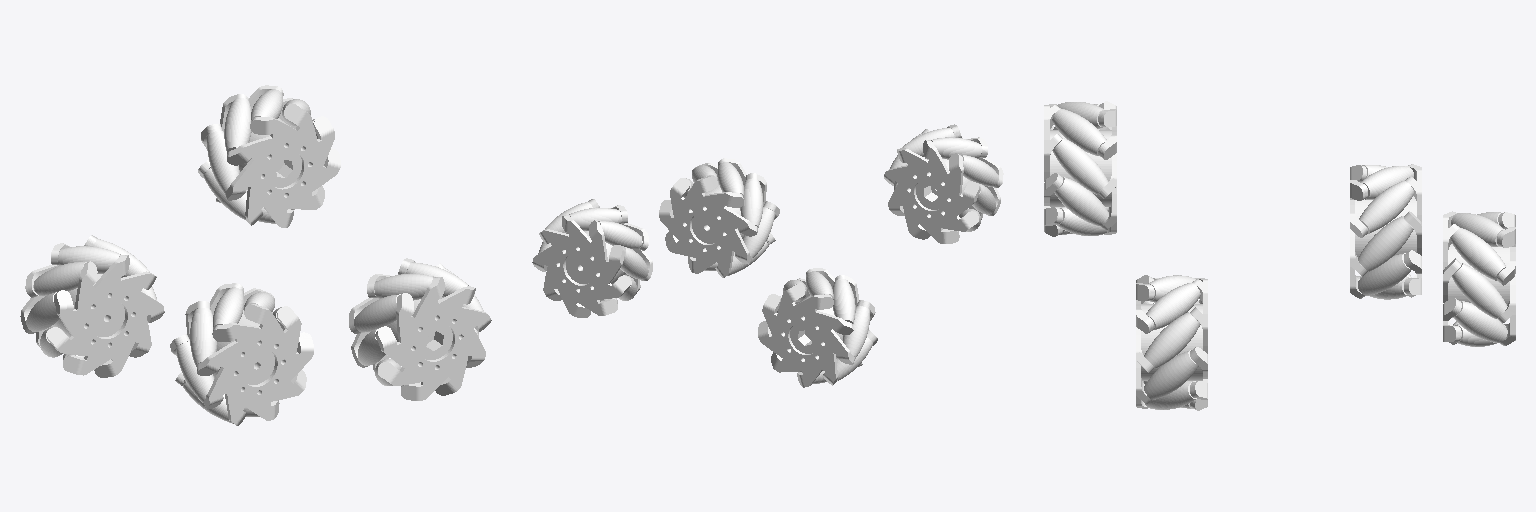
robot.urdf — base_link:
<?xml version="1.0"?>
<robot name="base_link">

  <!-- Materials -->
  <material name="PA_11_Nylon_HP_11_30_with_EOS_P_396_3D_Printer">
    <color rgba="0.247 0.247 0.247 1.0"/>
  </material>
  <material name="Steel">
    <color rgba="1.000 1.000 1.000 1.0"/>
  </material>
  <material name="Acetal_Resin_Black">
    <color rgba="0.098 0.098 0.098 1.0"/>
  </material>

  <link name="base_link">
    <inertial>
      <origin xyz="0.041588 -0.062494 0.024412" rpy="0 0 0"/>
      <mass value="2.898778"/>
      <inertia ixx="7.972007e-03" ixy="9.038509e-07" ixz="2.755930e-04"
               iyy="1.378869e-02" iyz="-4.482345e-07" izz="2.052341e-02"/>
    </inertial>
    <visual>
      <origin xyz="0.000000 0.000000 0.000000" rpy="0.000000 0.000000 0.000000"/>
      <geometry>
        <mesh filename="package://base_link_description/meshes/base_link/base_link.dae" scale="1 1 1"/>
      </geometry>
      <material name="Acetal_Resin_Black"/>
    </visual>
    <collision>
      <origin xyz="0.000000 0.000000 0.000000" rpy="0.000000 0.000000 0.000000"/>
      <geometry>
        <mesh filename="package://base_link_description/meshes/base_link/base_link_collision.stl" scale="0.01 0.01 0.01"/>
      </geometry>
    </collision>
  </link>

  <link name="zed2_camera_link">
    <inertial>
      <origin xyz="0.000000 0.015505 0.042389" rpy="0 0 0"/>
      <mass value="0.178229"/>
      <inertia ixx="2.662726e-05" ixy="-3.215230e-09" ixz="-1.621734e-09"
               iyy="4.362977e-04" iyz="-2.967393e-09" izz="4.390806e-04"/>
    </inertial>
    <visual>
      <origin xyz="0.000000 0.000000 0.000000" rpy="0.000000 0.000000 0.000000"/>
      <geometry>
        <mesh filename="package://base_link_description/meshes/base_link/zed2_camera_link.dae" scale="1 1 1"/>
      </geometry>
      <material name="PA_11_Nylon_HP_11_30_with_EOS_P_396_3D_Printer"/>
    </visual>
    <collision>
      <origin xyz="0.000000 0.000000 0.000000" rpy="0.000000 0.000000 0.000000"/>
      <geometry>
        <mesh filename="package://base_link_description/meshes/base_link/zed2_camera_link_collision.stl" scale="0.01 0.01 0.01"/>
      </geometry>
    </collision>
  </link>

  <link name="rplidar_s2_link">
    <inertial>
      <origin xyz="-0.595013 0.532942 0.012880" rpy="0 0 0"/>
      <mass value="0.203764"/>
      <inertia ixx="1.351079e-04" ixy="-7.653496e-09" ixz="1.410544e-08"
               iyy="1.362177e-04" iyz="3.930765e-08" izz="2.370283e-04"/>
    </inertial>
    <visual>
      <origin xyz="0.000000 0.000000 0.000000" rpy="0.000000 0.000000 0.000000"/>
      <geometry>
        <mesh filename="package://base_link_description/meshes/base_link/rplidar_s2_link.dae" scale="1 1 1"/>
      </geometry>
      <material name="Steel"/>
    </visual>
    <collision>
      <origin xyz="0.000000 0.000000 0.000000" rpy="0.000000 0.000000 0.000000"/>
      <geometry>
        <mesh filename="package://base_link_description/meshes/base_link/rplidar_s2_link_collision.stl" scale="0.01 0.01 0.01"/>
      </geometry>
    </collision>
  </link>

  <link name="Part2_1">
    <inertial>
      <origin xyz="-0.129964 -0.020034 0.052271" rpy="0 0 0"/>
      <mass value="0.967990"/>
      <inertia ixx="4.354820e-04" ixy="-1.765367e-07" ixz="9.904484e-07"
               iyy="4.318266e-04" iyz="1.096024e-06" izz="6.297403e-04"/>
    </inertial>
    <visual>
      <origin xyz="-0.130000 -0.020000 0.070000" rpy="-1.570796 0.000000 0.000000"/>
      <geometry>
        <mesh filename="package://base_link_description/meshes/front_left_wheel_link/Part2_1.dae" scale="1 1 1"/>
      </geometry>
      <material name="Steel"/>
    </visual>
    <collision>
      <origin xyz="-0.130000 -0.020000 0.070000" rpy="-1.570796 0.000000 0.000000"/>
      <geometry>
        <mesh filename="package://base_link_description/meshes/front_left_wheel_link/Part2_1_collision.stl" scale="0.01 0.01 0.01"/>
      </geometry>
    </collision>
  </link>

  <link name="Part2_2">
    <inertial>
      <origin xyz="0.020036 -0.020034 -0.185729" rpy="0 0 0"/>
      <mass value="0.967990"/>
      <inertia ixx="4.354820e-04" ixy="-1.765367e-07" ixz="9.904484e-07"
               iyy="4.318266e-04" iyz="1.096024e-06" izz="6.297403e-04"/>
    </inertial>
    <visual>
      <origin xyz="0.020000 -0.020000 -0.168000" rpy="-1.570796 0.000000 0.000000"/>
      <geometry>
        <mesh filename="package://base_link_description/meshes/rear_right_wheel_link/Part2_2.dae" scale="1 1 1"/>
      </geometry>
      <material name="Steel"/>
    </visual>
    <collision>
      <origin xyz="0.020000 -0.020000 -0.168000" rpy="-1.570796 0.000000 0.000000"/>
      <geometry>
        <mesh filename="package://base_link_description/meshes/rear_right_wheel_link/Part2_2_collision.stl" scale="0.01 0.01 0.01"/>
      </geometry>
    </collision>
  </link>

  <link name="Part2_1_Mirror">
    <inertial>
      <origin xyz="-0.129964 -0.019966 -0.185729" rpy="0 0 0"/>
      <mass value="0.967990"/>
      <inertia ixx="4.354820e-04" ixy="1.765368e-07" ixz="9.904484e-07"
               iyy="4.318266e-04" iyz="-1.096024e-06" izz="6.297403e-04"/>
    </inertial>
    <visual>
      <origin xyz="-0.130000 -0.020000 -0.168000" rpy="-1.570796 0.000000 0.000000"/>
      <geometry>
        <mesh filename="package://base_link_description/meshes/front_right_wheel_link/Part2_1_Mirror.dae" scale="1 1 1"/>
      </geometry>
      <material name="Steel"/>
    </visual>
    <collision>
      <origin xyz="-0.130000 -0.020000 -0.168000" rpy="-1.570796 0.000000 0.000000"/>
      <geometry>
        <mesh filename="package://base_link_description/meshes/front_right_wheel_link/Part2_1_Mirror_collision.stl" scale="0.01 0.01 0.01"/>
      </geometry>
    </collision>
  </link>

  <link name="Part2_2_Mirror">
    <inertial>
      <origin xyz="0.020036 -0.019966 0.025271" rpy="0 0 0"/>
      <mass value="0.967990"/>
      <inertia ixx="4.354820e-04" ixy="1.765368e-07" ixz="9.904484e-07"
               iyy="4.318266e-04" iyz="-1.096024e-06" izz="6.297403e-04"/>
    </inertial>
    <visual>
      <origin xyz="0.020000 -0.020000 0.043000" rpy="-1.570796 0.000000 0.000000"/>
      <geometry>
        <mesh filename="package://base_link_description/meshes/rear_left_wheel_link/Part2_2_Mirror.dae" scale="1 1 1"/>
      </geometry>
      <material name="Steel"/>
    </visual>
    <collision>
      <origin xyz="0.020000 -0.020000 0.043000" rpy="-1.570796 0.000000 0.000000"/>
      <geometry>
        <mesh filename="package://base_link_description/meshes/rear_left_wheel_link/Part2_2_Mirror_collision.stl" scale="0.01 0.01 0.01"/>
      </geometry>
    </collision>
  </link>

  <joint name="Rigid_1" type="fixed">
    <parent link="base_link"/>
    <child link="zed2_camera_link"/>
    <origin xyz="0.145000 -0.062500 -0.007371" rpy="0.000000 0.000000 -1.570796"/>
  </joint>

  <joint name="Rigid_2" type="fixed">
    <parent link="base_link"/>
    <child link="rplidar_s2_link"/>
    <origin xyz="-0.433747 -0.657506 0.046815" rpy="0.000000 0.000000 -1.570796"/>
  </joint>

  <joint name="Revolute_5" type="continuous">
    <parent link="base_link"/>
    <child link="Part2_1"/>
    <origin xyz="0.260000 0.000000 0.000000" rpy="-1.570796 0.000000 0.000000"/>
    <axis xyz="0.000000 0.000000 1.000000"/>
    <limit effort="100.0" velocity="1.00"/>
  </joint>

  <joint name="Revolute_6" type="continuous">
    <parent link="base_link"/>
    <child link="Part2_2"/>
    <origin xyz="-0.040000 -0.362000 0.040000" rpy="1.570796 0.000000 0.000000"/>
    <axis xyz="0.000000 0.000000 1.000000"/>
    <limit effort="100.0" velocity="1.00"/>
  </joint>

  <joint name="Revolute_8" type="continuous">
    <parent link="base_link"/>
    <child link="Part2_1_Mirror"/>
    <origin xyz="0.260000 -0.362000 0.040000" rpy="1.570796 0.000000 0.000000"/>
    <axis xyz="0.000000 0.000000 1.000000"/>
    <limit effort="100.0" velocity="1.00"/>
  </joint>

  <joint name="Revolute_9" type="continuous">
    <parent link="base_link"/>
    <child link="Part2_2_Mirror"/>
    <origin xyz="-0.040000 0.026000 0.000000" rpy="-1.570796 0.000000 0.000000"/>
    <axis xyz="0.000000 0.000000 1.000000"/>
    <limit effort="100.0" velocity="1.00"/>
  </joint>

  <!-- ROS 2 control: generated generic system -->
  <ros2_control name="base_link_system" type="system">
    <hardware>
      <plugin>mock_components/GenericSystem</plugin>
      <param name="cmd_topic">sim/base_link_system/cmd</param>
      <param name="state_topic">sim/base_link_system/state</param>
    </hardware>

    <joint name="Revolute_5">
      <command_interface name="position"/>
      <command_interface name="velocity"/>
      <state_interface name="position">
        <param name="initial_value">0.0</param>
      </state_interface>
      <state_interface name="velocity"/>
      <state_interface name="effort"/>
    </joint>
    <joint name="Revolute_6">
      <command_interface name="position"/>
      <command_interface name="velocity"/>
      <state_interface name="position">
        <param name="initial_value">0.0</param>
      </state_interface>
      <state_interface name="velocity"/>
      <state_interface name="effort"/>
    </joint>
    <joint name="Revolute_8">
      <command_interface name="position"/>
      <command_interface name="velocity"/>
      <state_interface name="position">
        <param name="initial_value">0.0</param>
      </state_interface>
      <state_interface name="velocity"/>
      <state_interface name="effort"/>
    </joint>
    <joint name="Revolute_9">
      <command_interface name="position"/>
      <command_interface name="velocity"/>
      <state_interface name="position">
        <param name="initial_value">0.0</param>
      </state_interface>
      <state_interface name="velocity"/>
      <state_interface name="effort"/>
    </joint>
  </ros2_control>

</robot>

--- Render facts (derived) ---
3 views of the same robot in one strip: view 1: azimuth 30°, elevation 25°; view 2: azimuth 150°, elevation 25°; view 3: azimuth 270°, elevation 25° (orthographic).
Robot: base_link — 7 links, 6 joints (4 continuous, 2 fixed); root link base_link; default pose: every joint at zero.
Links seen in each view (by area): view 1: Part2_2_Mirror, Part2_2, Part2_1, Part2_1_Mirror; view 2: Part2_1_Mirror, Part2_1, Part2_2_Mirror, Part2_2; view 3: Part2_2, Part2_1, Part2_1_Mirror, Part2_2_Mirror.
Link boxes in pixels (box(x1,y1,x2,y2)): Part2_2_Mirror: box(20, 235, 164, 377); Part2_2: box(170, 283, 313, 425); Part2_1: box(198, 85, 340, 227); Part2_1_Mirror: box(349, 258, 491, 400); Part2_1_Mirror: box(659, 158, 779, 277); Part2_1: box(532, 199, 652, 317); Part2_2_Mirror: box(758, 268, 877, 387); Part2_2: box(884, 124, 1003, 243); Part2_2: box(1044, 101, 1116, 236); Part2_1: box(1443, 211, 1515, 346); Part2_1_Mirror: box(1136, 275, 1207, 410); Part2_2_Mirror: box(1350, 164, 1421, 299).
Bounding box of the posed robot: 0.2278 × 0.27 × 0.118 m (x, y, z).
Meshes: 7 distinct files referenced, 4 mesh visuals loaded (4 Collada DAE); not drawn: 3 (reference not matched to a file when rendering).
